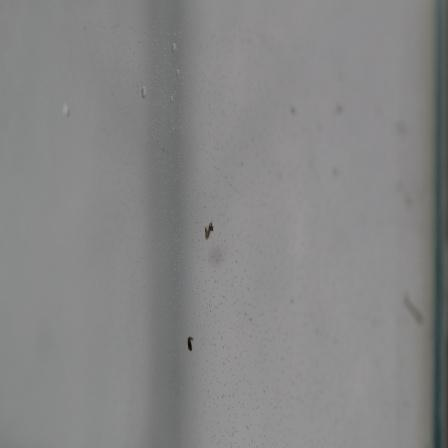Jentik-Nyamuk: (199, 218, 219, 245), (183, 332, 196, 356)
